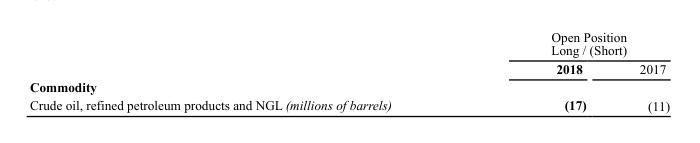table: (28, 28, 669, 112)
table column: (28, 28, 470, 112), (470, 28, 612, 112), (612, 28, 669, 112)
table column header: (28, 28, 669, 77)
table projected row header: (28, 77, 669, 95)
table row: (28, 28, 669, 58), (28, 58, 669, 77), (28, 77, 669, 95), (28, 95, 669, 112)
table spanning cell: (470, 28, 669, 58)
